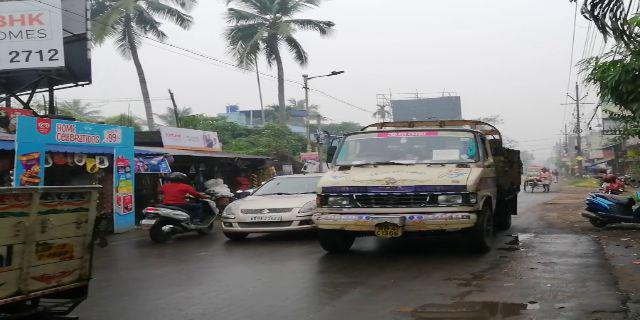Car: (226, 174, 319, 245)
Motorbike: (137, 199, 215, 235)
Truck: (317, 118, 525, 248)
